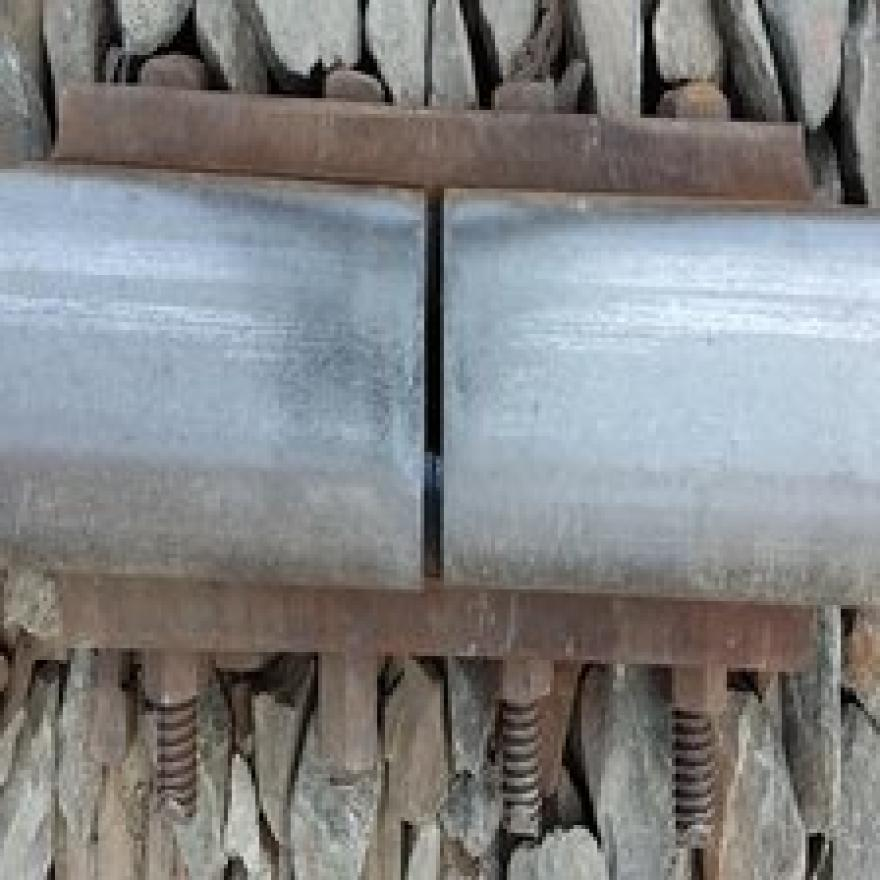railway-gap: (206, 150, 655, 609)
